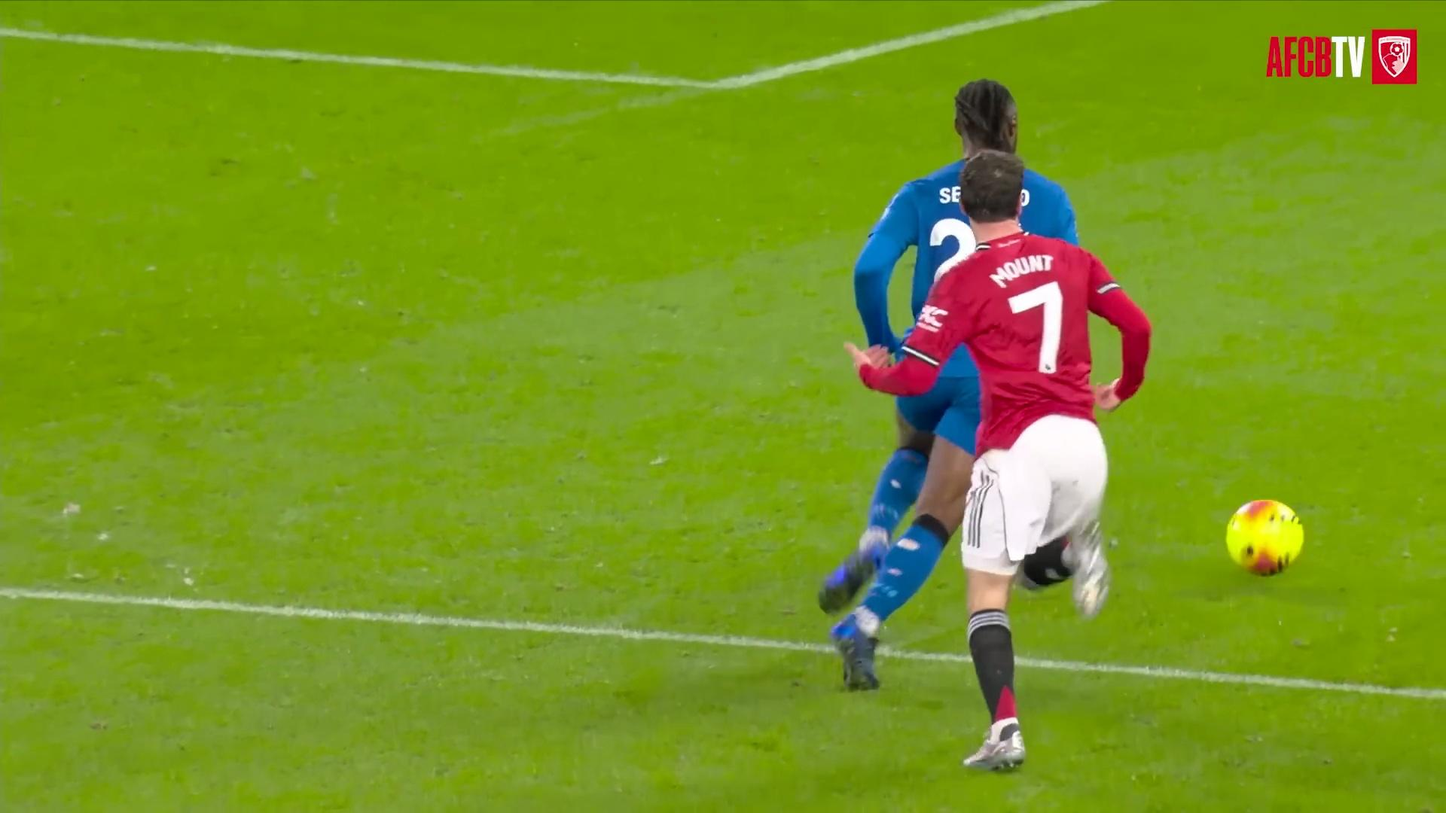football: (1226, 500, 1303, 575)
player: (849, 153, 1150, 769), (819, 350, 979, 688)
